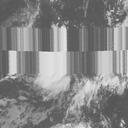cyclone: (39, 54, 89, 100)
